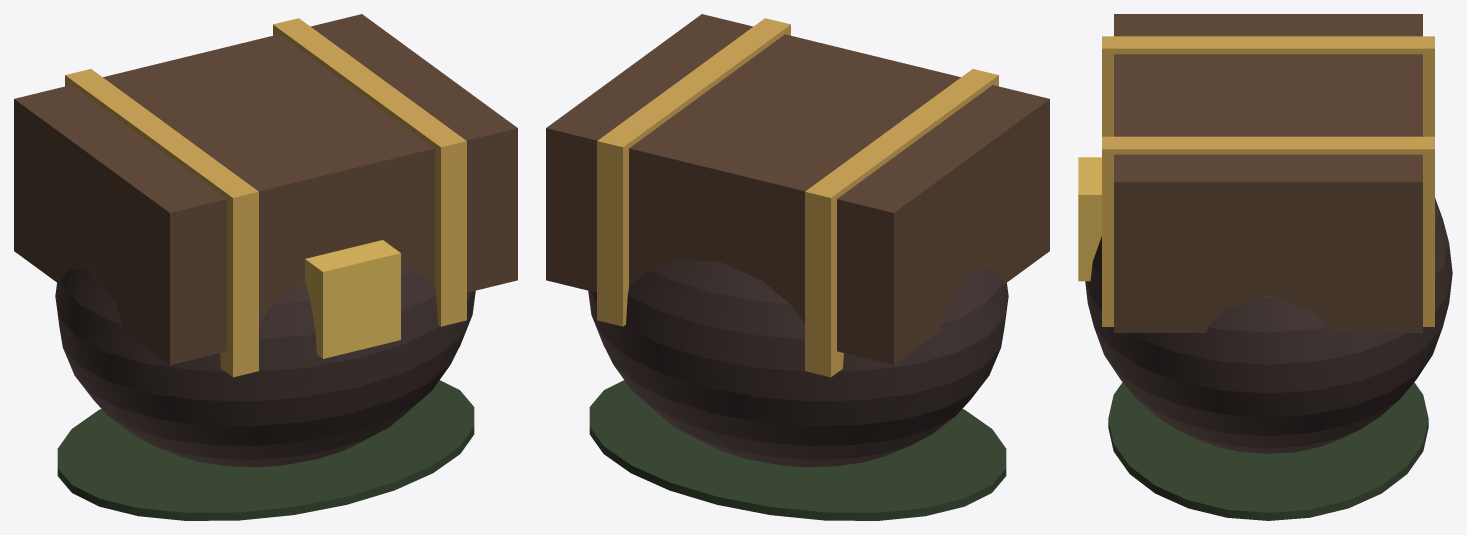
The model's file is sh_chest.obj.
3 views of the same model, side by side, from view 1: azimuth 30°, elevation 25°; view 2: azimuth 150°, elevation 25°; view 3: azimuth 270°, elevation 25° (orthographic).
Bounding box in the file's own units: 1.49 × 1.25 × 1.26.
